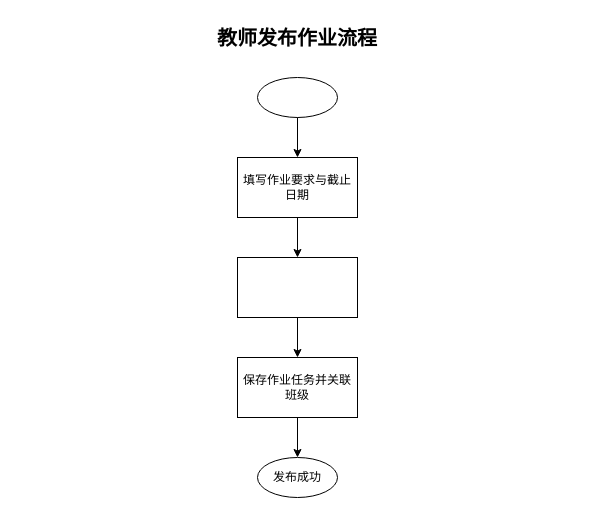
Some shapes in this 594 by 515 pixel diagram are drawn without their labels. The shapes that lost their labels are listed below. From the top down, each one's centre as x and y in pixels, then its label:
At (x=297, y=97): "教师进入作业管理".
At (x=297, y=287): "上传作业附件至 OSS".
